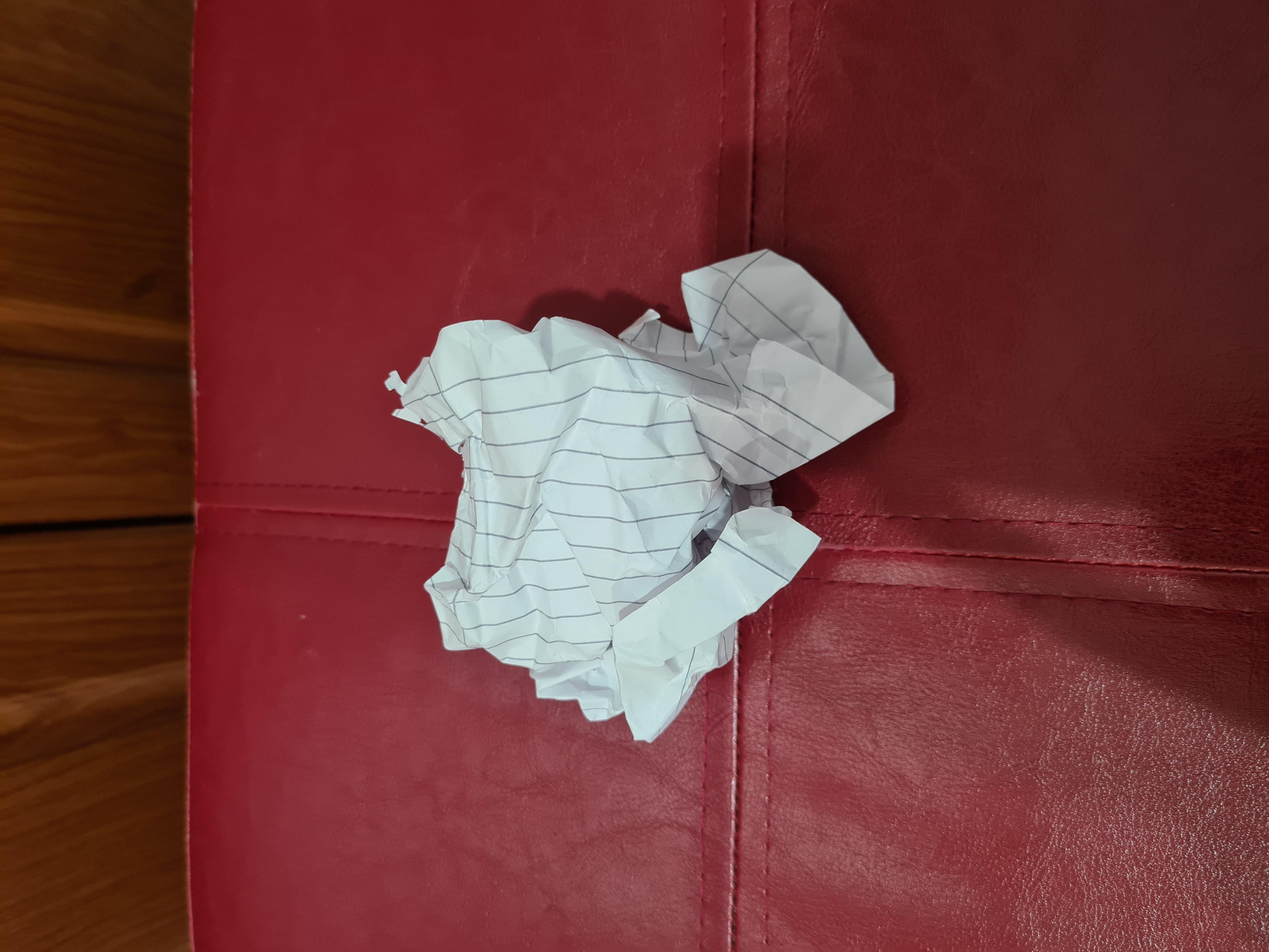paper: (316, 293, 921, 657)
